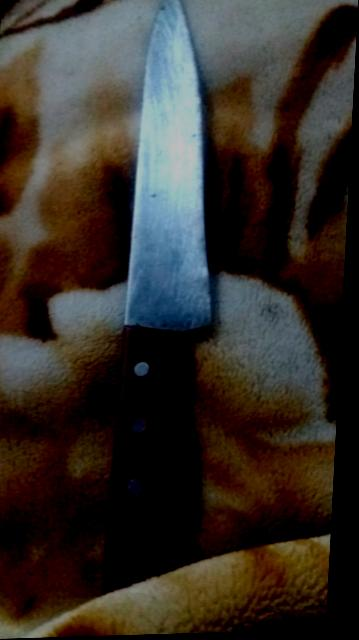Knife: (101, 0, 210, 592)
